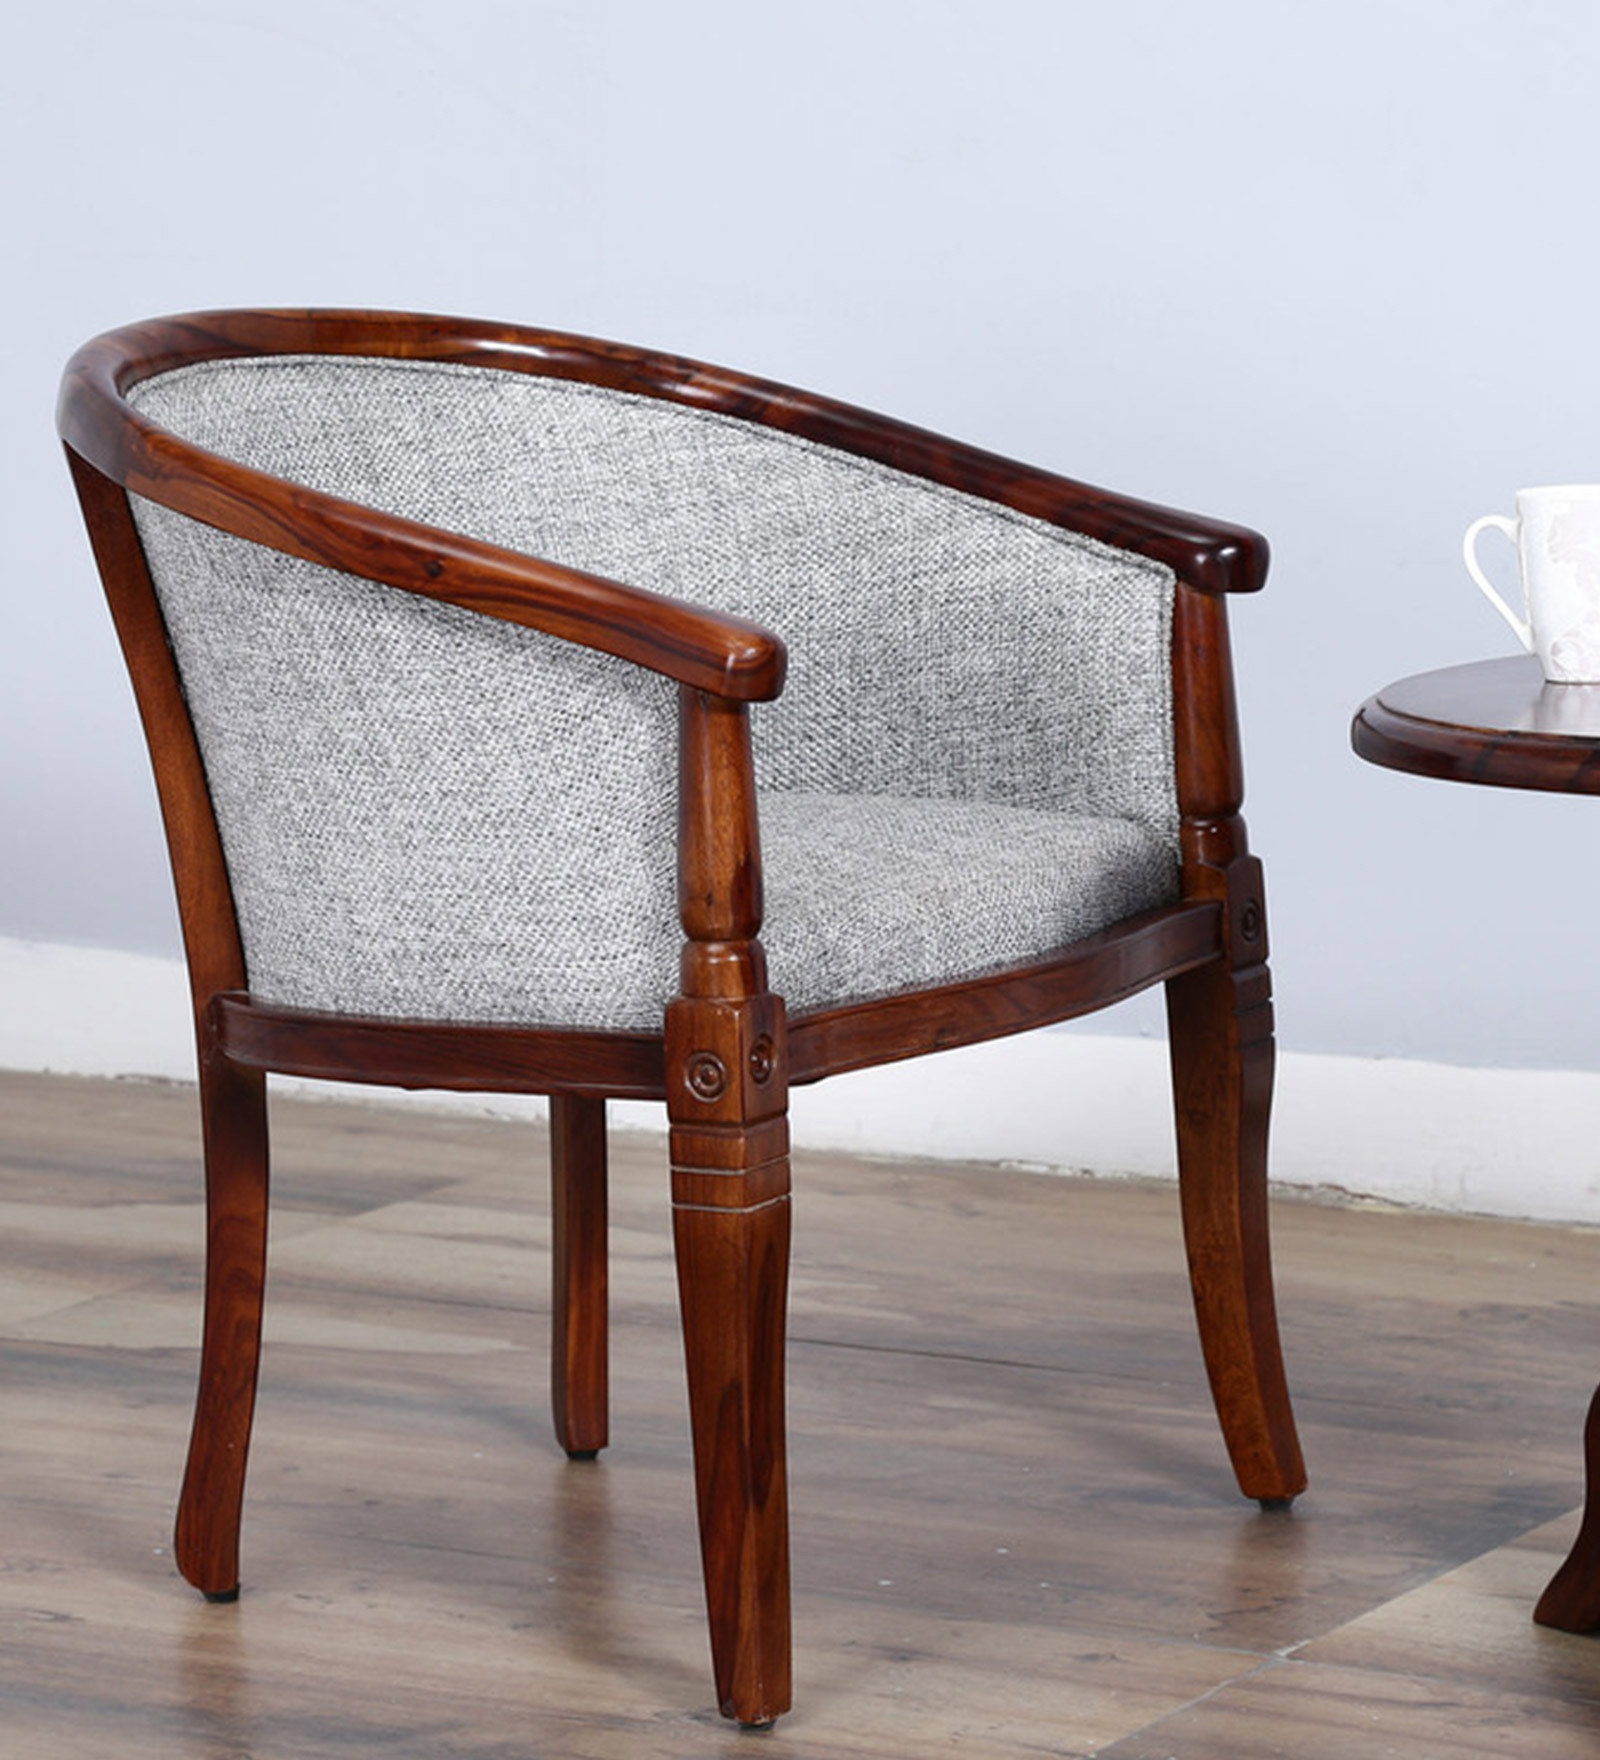Stalley Arm Chair in Grey Color with Honey Oak Finish by Amberville: (21, 196, 1350, 1722)
